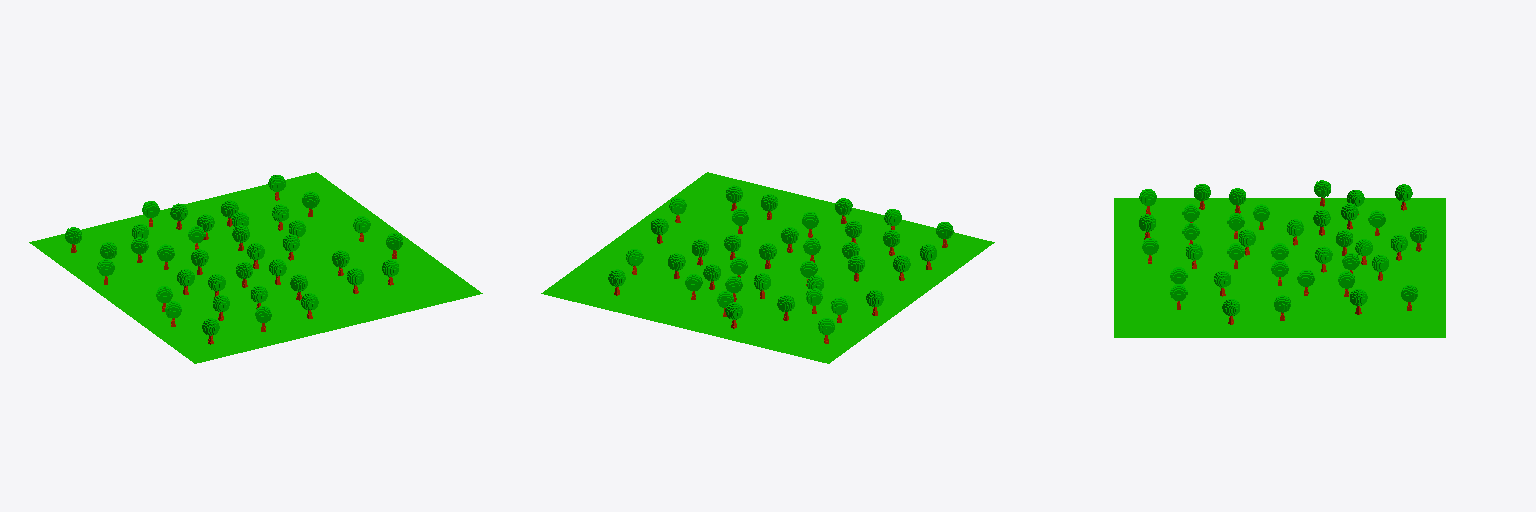
File: tree.obj
The picture shows the model from 3 angles: view 1: azimuth 30°, elevation 25°; view 2: azimuth 150°, elevation 25°; view 3: azimuth 270°, elevation 25°; orthographic projection.
Parts seen in each view (by area): view 1: 平面; view 2: 平面; view 3: 平面.
Part boxes in pixels (left/top/right/bottom): 平面: left=29, top=172, right=482, bottom=363; 平面: left=541, top=172, right=994, bottom=363; 平面: left=1114, top=198, right=1445, bottom=337.
Size of the model in its own units: 40 by 3.23 by 40.